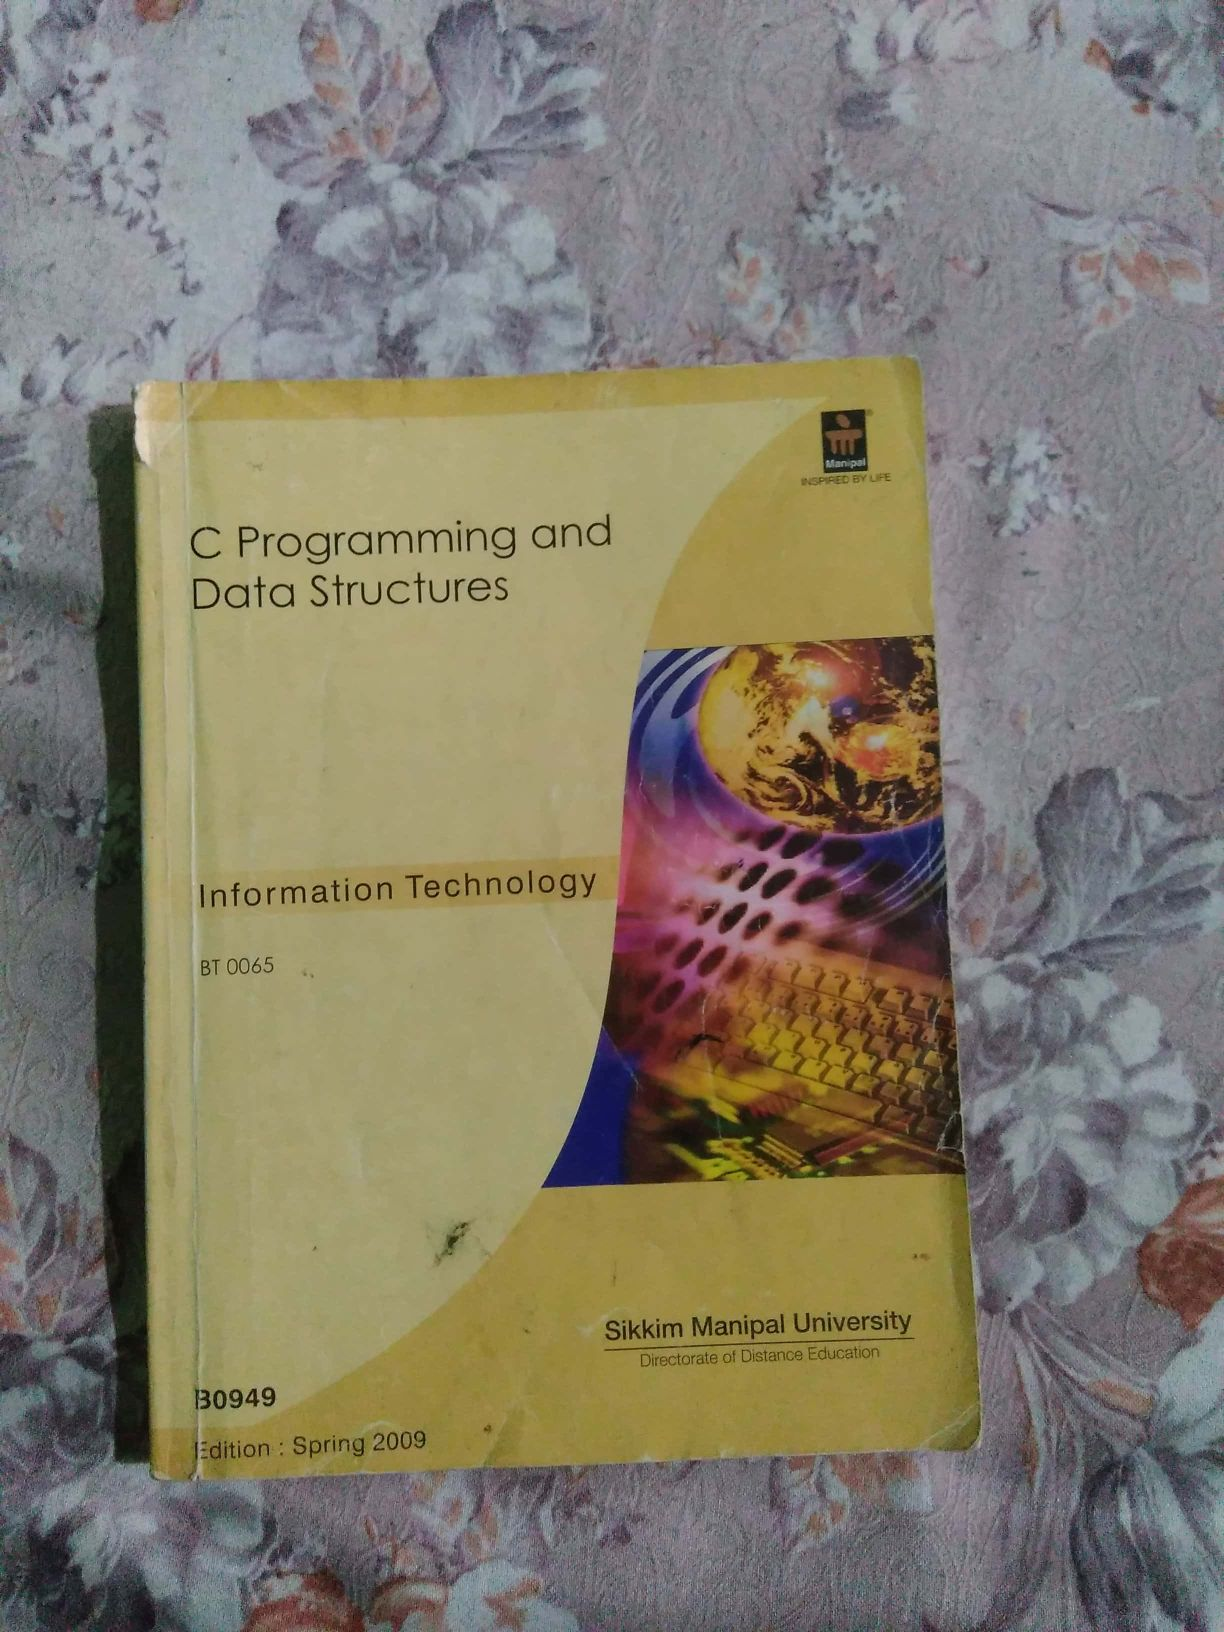clang: (103, 332, 1027, 1498)
